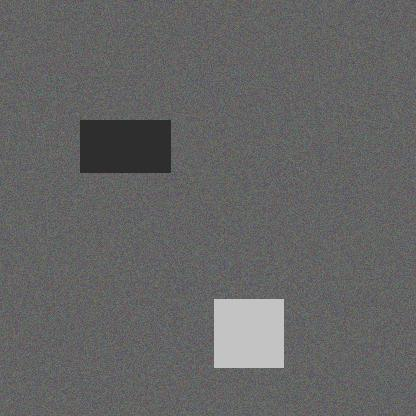empty: (73, 304, 155, 358)
